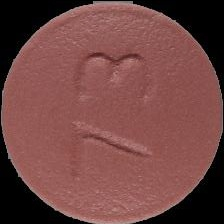61919-948: (0, 0, 224, 224)
